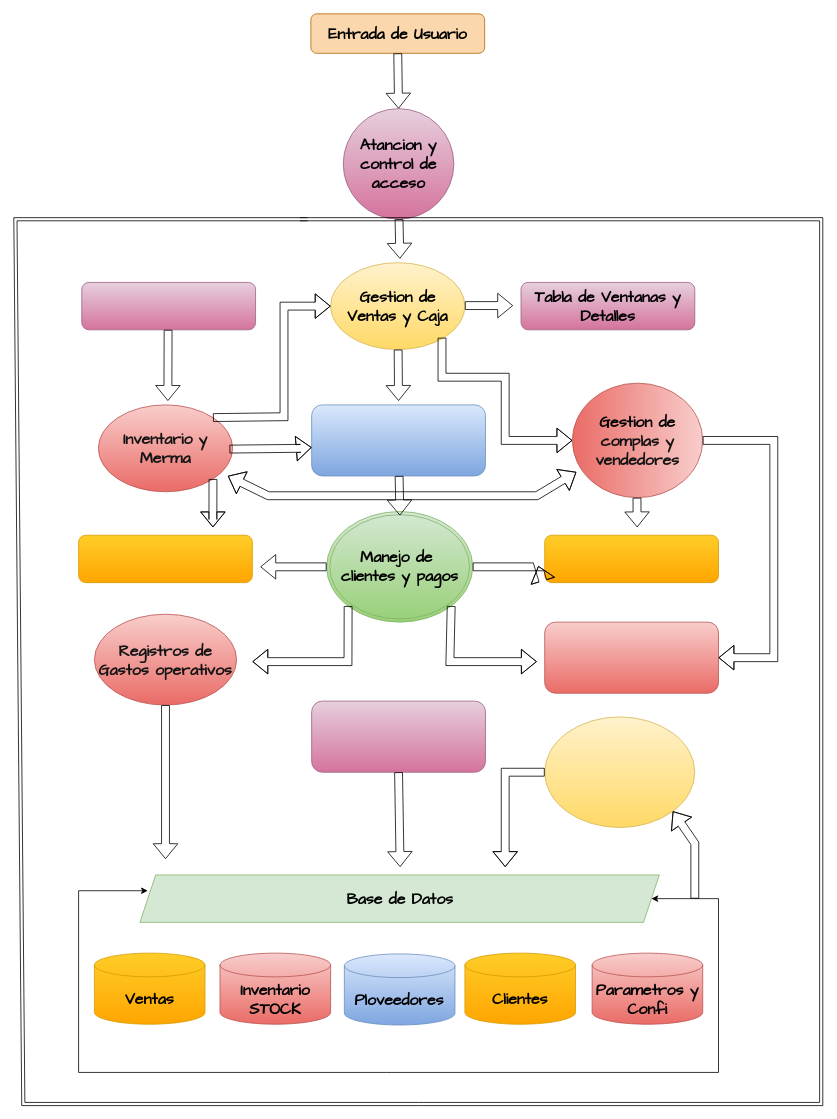
Image size: 837x1119. Some labels were removed from this diagram. Here are the shapes that lost their labels. From the top down, the centre of each, then its label:
At point 168,306: "Inventario".
At point 398,440: "Tabla de inventario y STOCK".
At point 165,558: "Tabla de merma".
At point 631,558: "Tabla clientes".
At point 631,657: "Tabla de pagos y bacos".
At point 398,736: "Tabla de gastos".
At point 619,772: "Generación de informes y resumenes".
